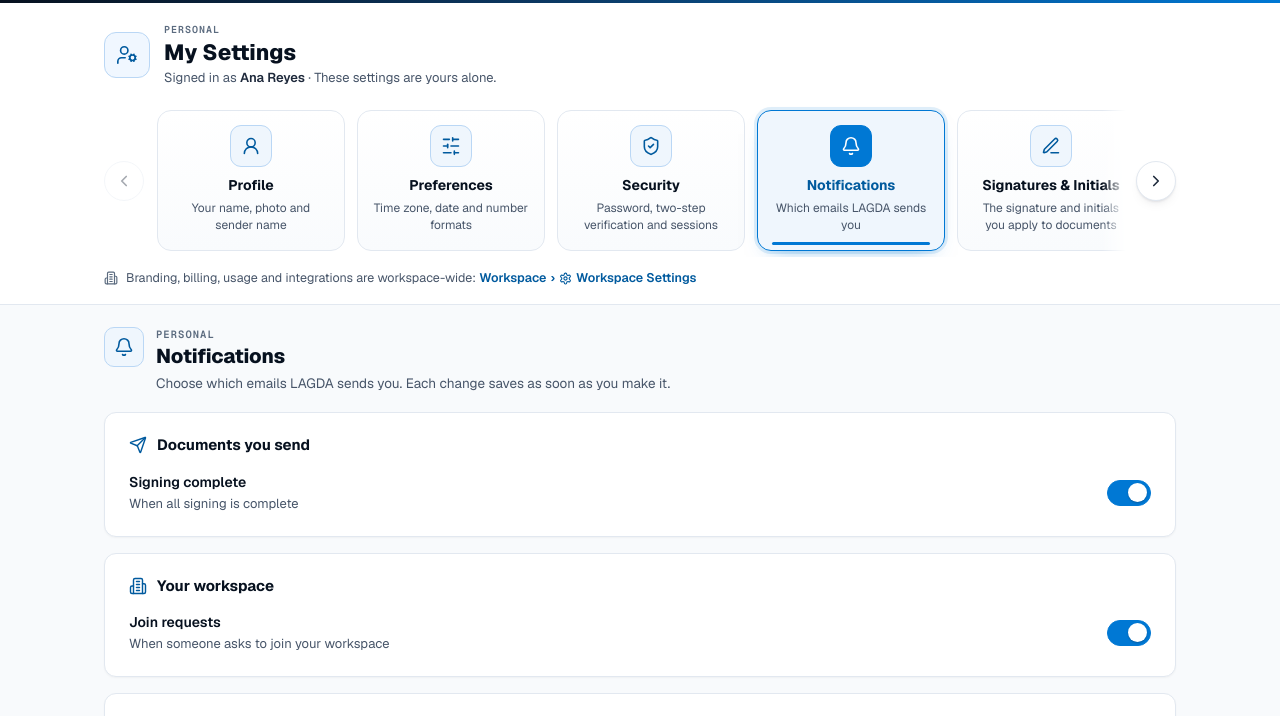
notifications › puts a switch back and says so when saving fails
Click the switch named "Signing complete" in the row of "When all signing is complete" at (1129, 493), box [1107,480,1151,506]
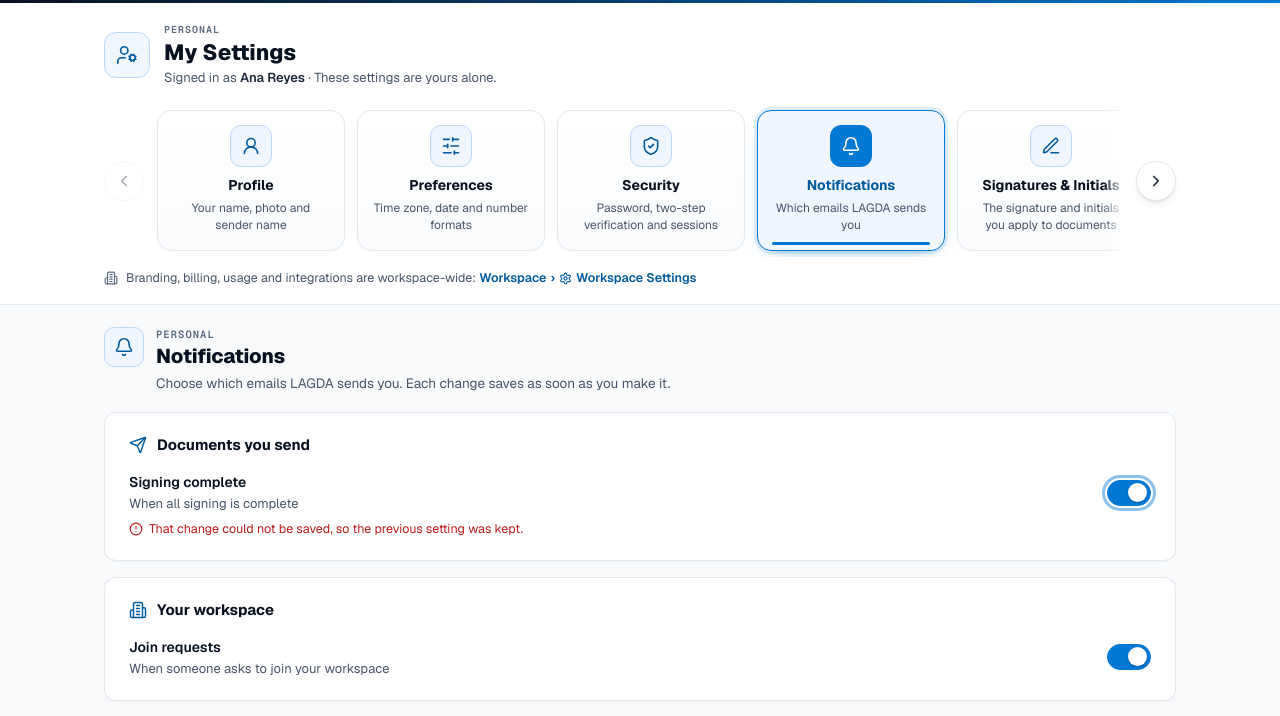
Expected: the text "That change could not be saved, so the previous setting was kept." is shown, [129,520,523,536]
